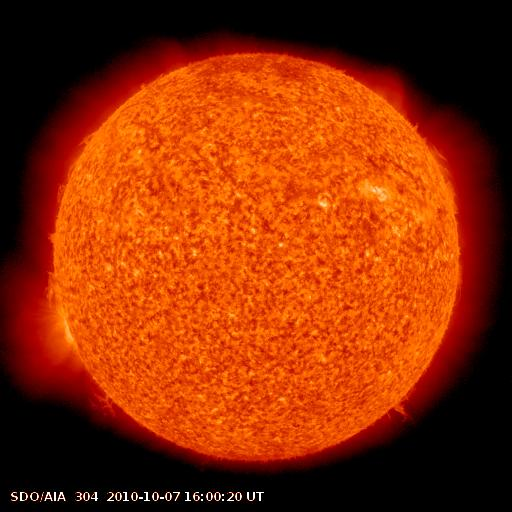prominence: (411, 120, 462, 215), (42, 177, 77, 252), (379, 381, 427, 434), (75, 375, 126, 424), (32, 259, 70, 312), (65, 120, 108, 156)
